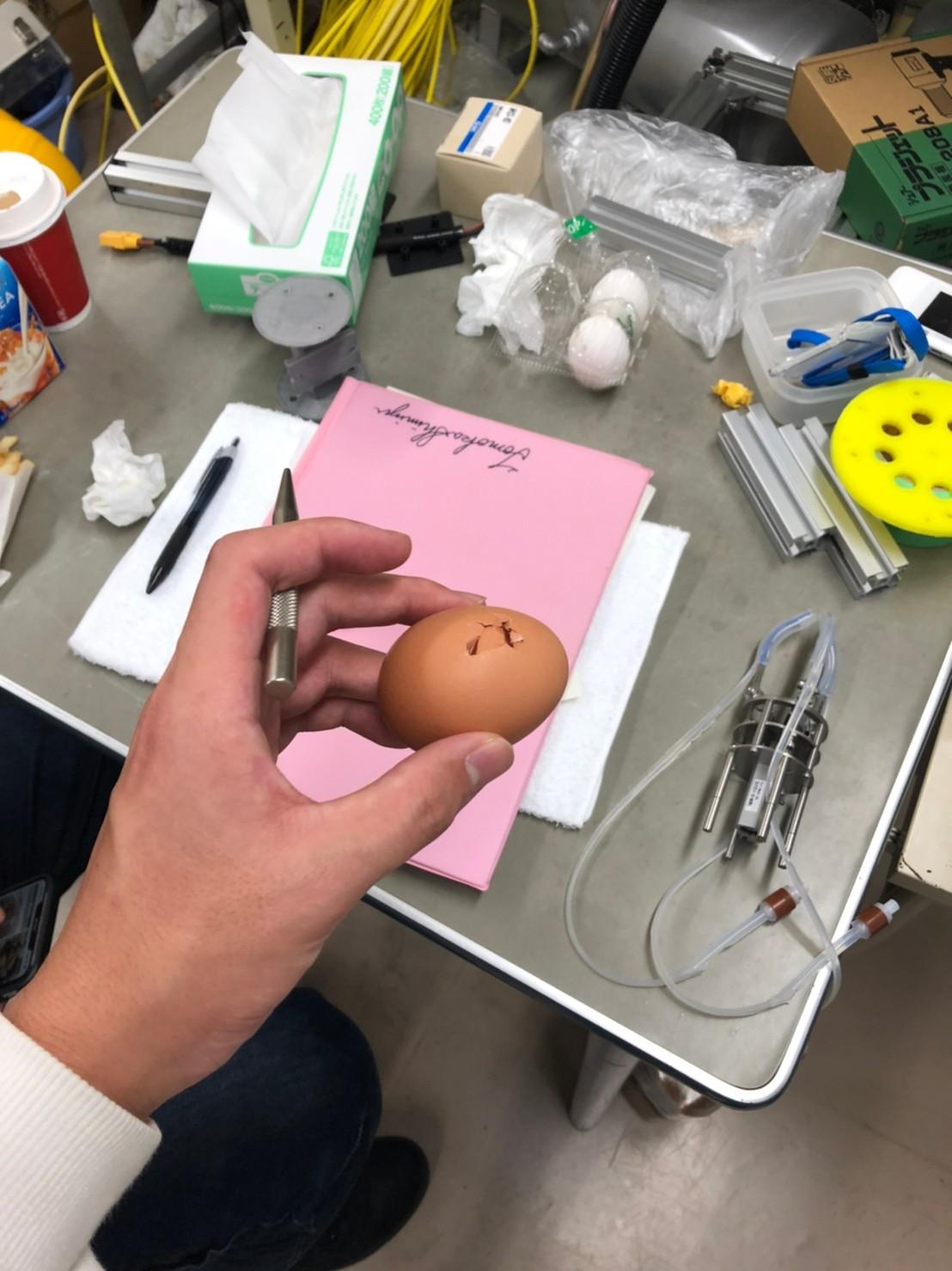egg: (368, 604, 577, 750), (555, 312, 635, 396)
